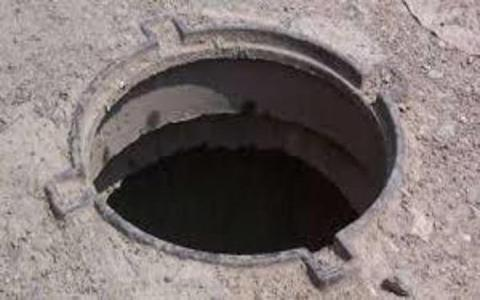open manhole: (27, 2, 408, 270)
